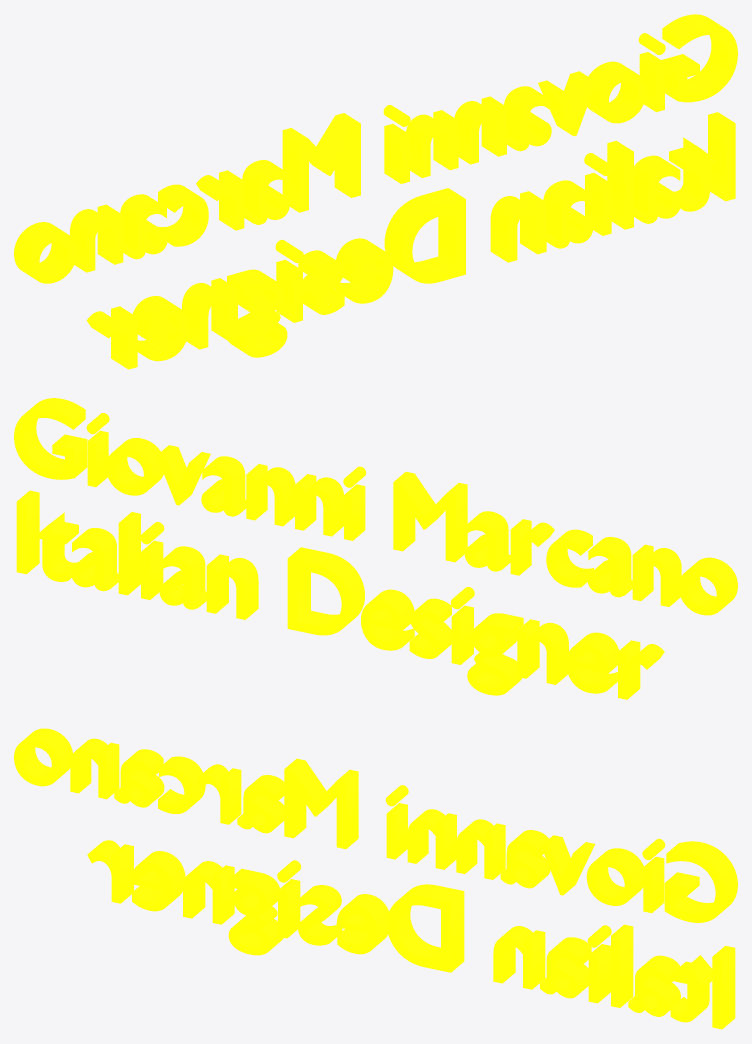
The model's file is GiovanniMarcano.fbx.
3 views of the same model, one above another, from view 1: azimuth 30°, elevation 25°; view 2: azimuth 150°, elevation 25°; view 3: azimuth 330°, elevation 25° (orthographic). The views are drawn at different scales.
Visible parts, largest first — view 1: GiovanniMarcano_LOD0; view 2: GiovanniMarcano_LOD0; view 3: GiovanniMarcano_LOD0.
Boxes of the visible parts, left/top/right/bottom form: GiovanniMarcano_LOD0: left=14, top=14, right=737, bottom=369; GiovanniMarcano_LOD0: left=14, top=398, right=737, bottom=699; GiovanniMarcano_LOD0: left=14, top=728, right=737, bottom=1029.
Size of what is drawn, in the model's own units: 820 by 220 by 82.26.
